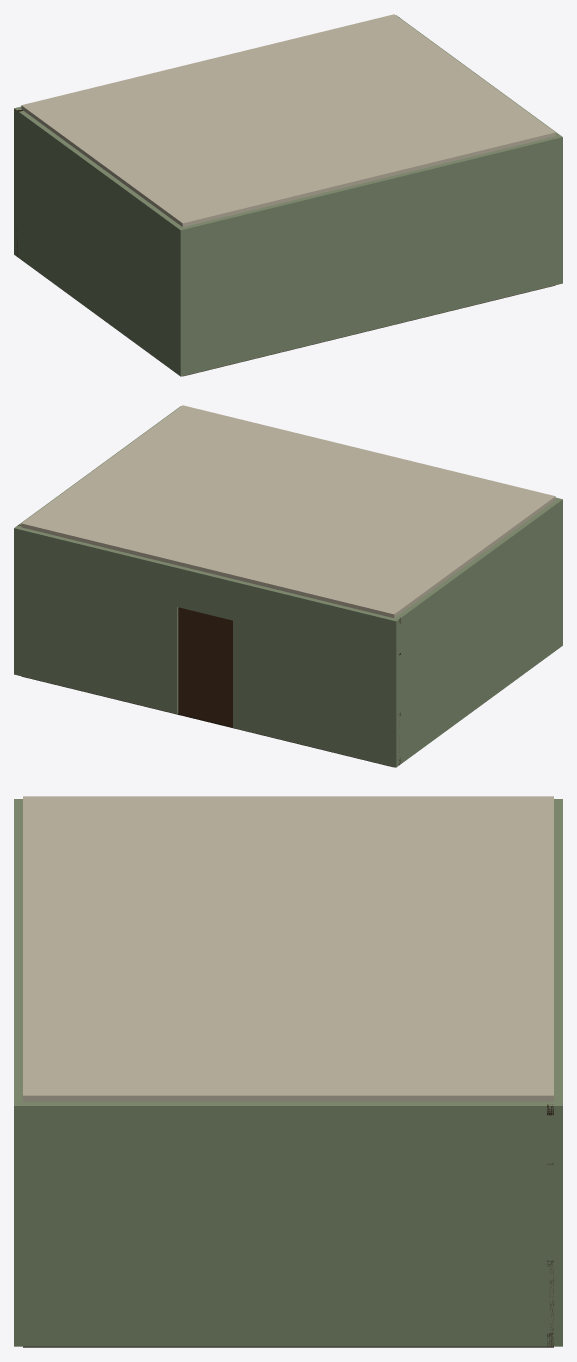
File: SuptRoom2.glb
The picture shows the model from 3 angles, top to bottom: view 1: azimuth 30°, elevation 25°; view 2: azimuth 150°, elevation 25°; view 3: azimuth 270°, elevation 25°; orthographic projection. The views are drawn at different scales.
Parts seen in each view (by area): view 1: SuptRoom2; view 2: SuptRoom2; view 3: SuptRoom2.
Part boxes in pixels (bbox=[...]): SuptRoom2: bbox=[14, 14, 562, 376]; SuptRoom2: bbox=[14, 405, 562, 767]; SuptRoom2: bbox=[14, 796, 562, 1347].
Size of the model in its own units: 8.2 by 3.14 by 6.2.
